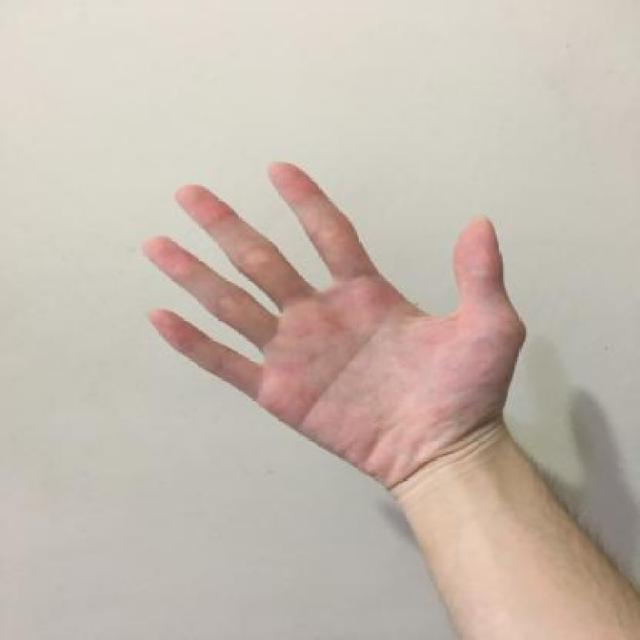bare_hand: (130, 153, 536, 504)
